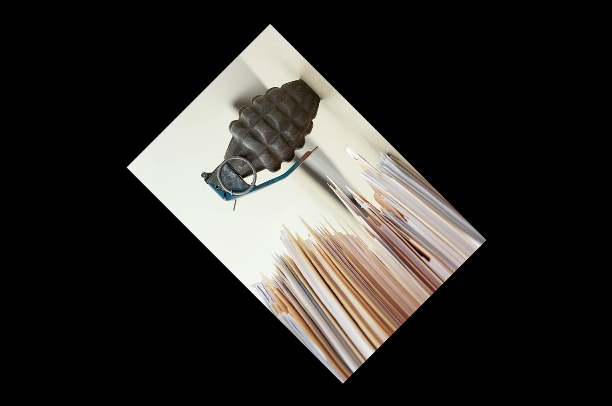e1: (199, 74, 321, 211)
